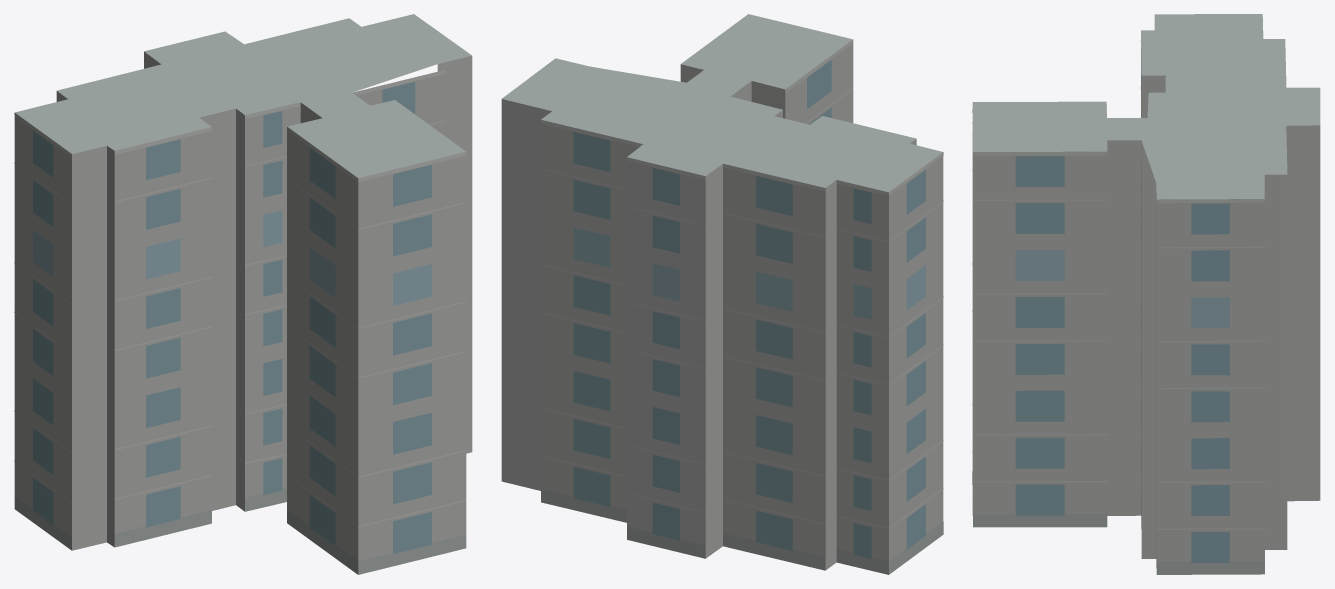
File: survey-upis-32726124.glb
3 renders of one model, left to right at view 1: azimuth 30°, elevation 25°; view 2: azimuth 150°, elevation 25°; view 3: azimuth 270°, elevation 25°, orthographic. The views are drawn at different scales.
Parts seen in each view (by area): view 1: survey-upis-32726124.tmp; view 2: survey-upis-32726124.tmp; view 3: survey-upis-32726124.tmp.
Part boxes in pixels (left/top/right/bottom): survey-upis-32726124.tmp: left=14, top=14, right=472, bottom=574; survey-upis-32726124.tmp: left=501, top=14, right=943, bottom=574; survey-upis-32726124.tmp: left=972, top=14, right=1320, bottom=574.
Bounding box in the file's own units: 25.88 × 24.4 × 20.52.
